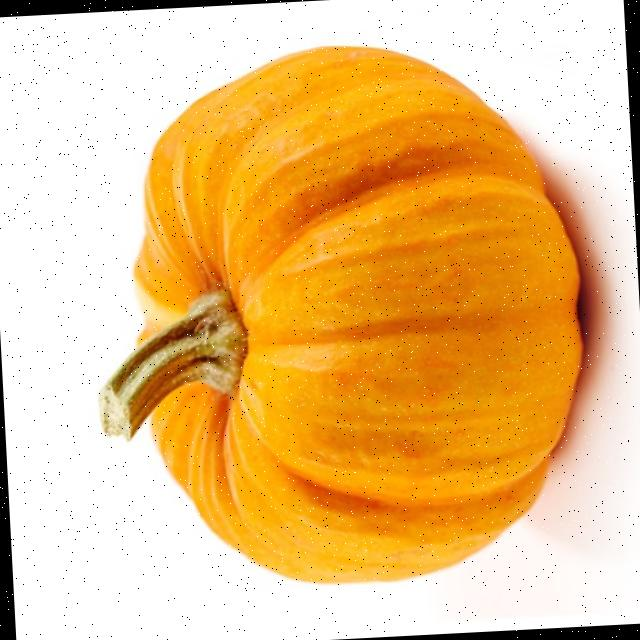pumpkin: (104, 47, 579, 582)
